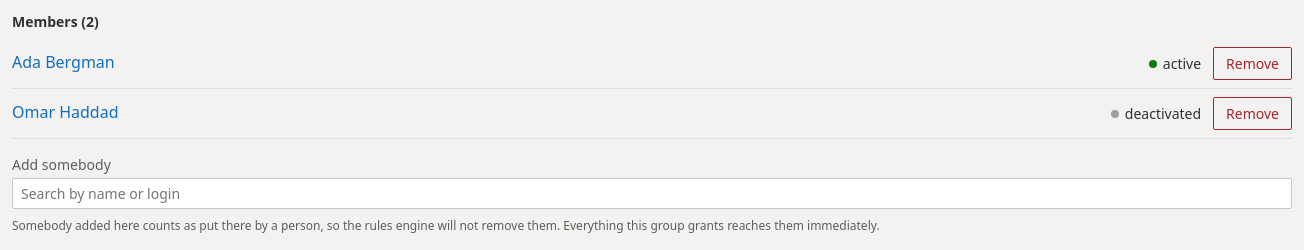
Test: removing asks first and names the group
The image size is (1304, 250).
Click the button "Remove" next to "active": [1253, 64] box [1213,47,1292,80]
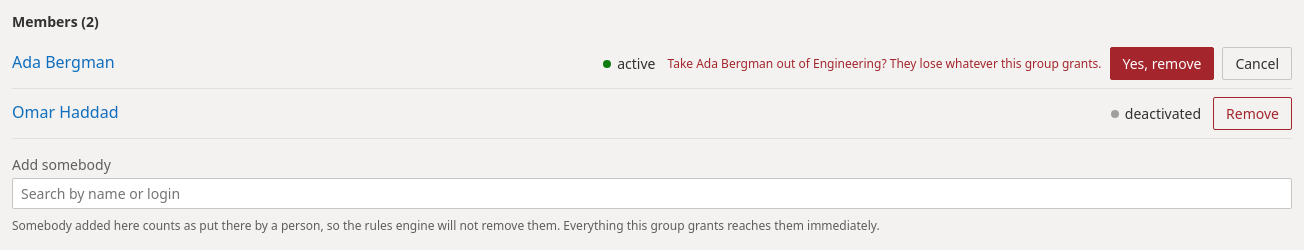
Expected: the text "Take Ada Bergman out of Engineering" is shown, [668,55,1102,72]
